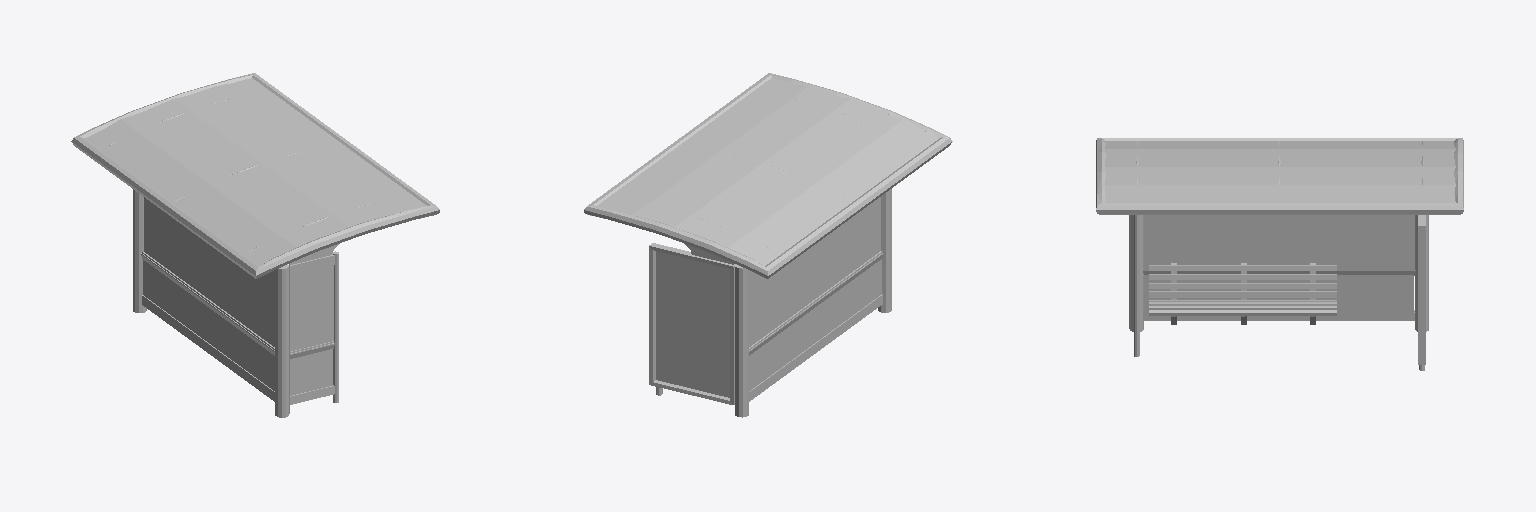
Rendered from BusStop_LOD1.obj.
3 renders of one model, left to right at view 1: azimuth 30°, elevation 25°; view 2: azimuth 150°, elevation 25°; view 3: azimuth 270°, elevation 25°, orthographic.
Visible parts, largest first — view 1: BusStop_LOD1 BusStop; view 2: BusStop_LOD1 BusStop; view 3: BusStop_LOD1 BusStop.
Boxes of the visible parts, x1,y1,x2,y2 form: BusStop_LOD1 BusStop: [71, 73, 439, 417]; BusStop_LOD1 BusStop: [584, 73, 952, 417]; BusStop_LOD1 BusStop: [1096, 138, 1463, 370].
Size of the model in its own units: 300 by 295 by 517.